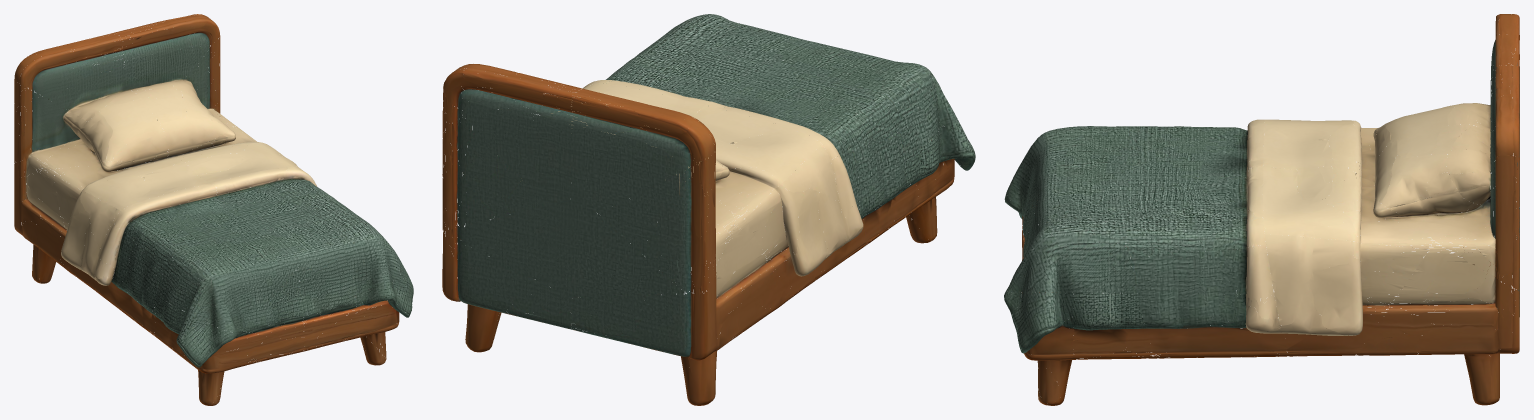
Rendered from bed.glb.
The picture shows the model from 3 angles, left to right: view 1: azimuth 30°, elevation 25°; view 2: azimuth 150°, elevation 25°; view 3: azimuth 270°, elevation 25°; orthographic projection. The views are drawn at different scales.
Visible parts, largest first — view 1: bed; view 2: bed; view 3: bed.
Part boxes in pixels (bbox=[...]): bed: bbox=[14, 14, 413, 405]; bed: bbox=[442, 14, 975, 405]; bed: bbox=[1004, 14, 1519, 405].
Size of the model in its own units: 0.6665 by 0.5972 by 0.9799.
Materials: 1 (1 with a texture image).
